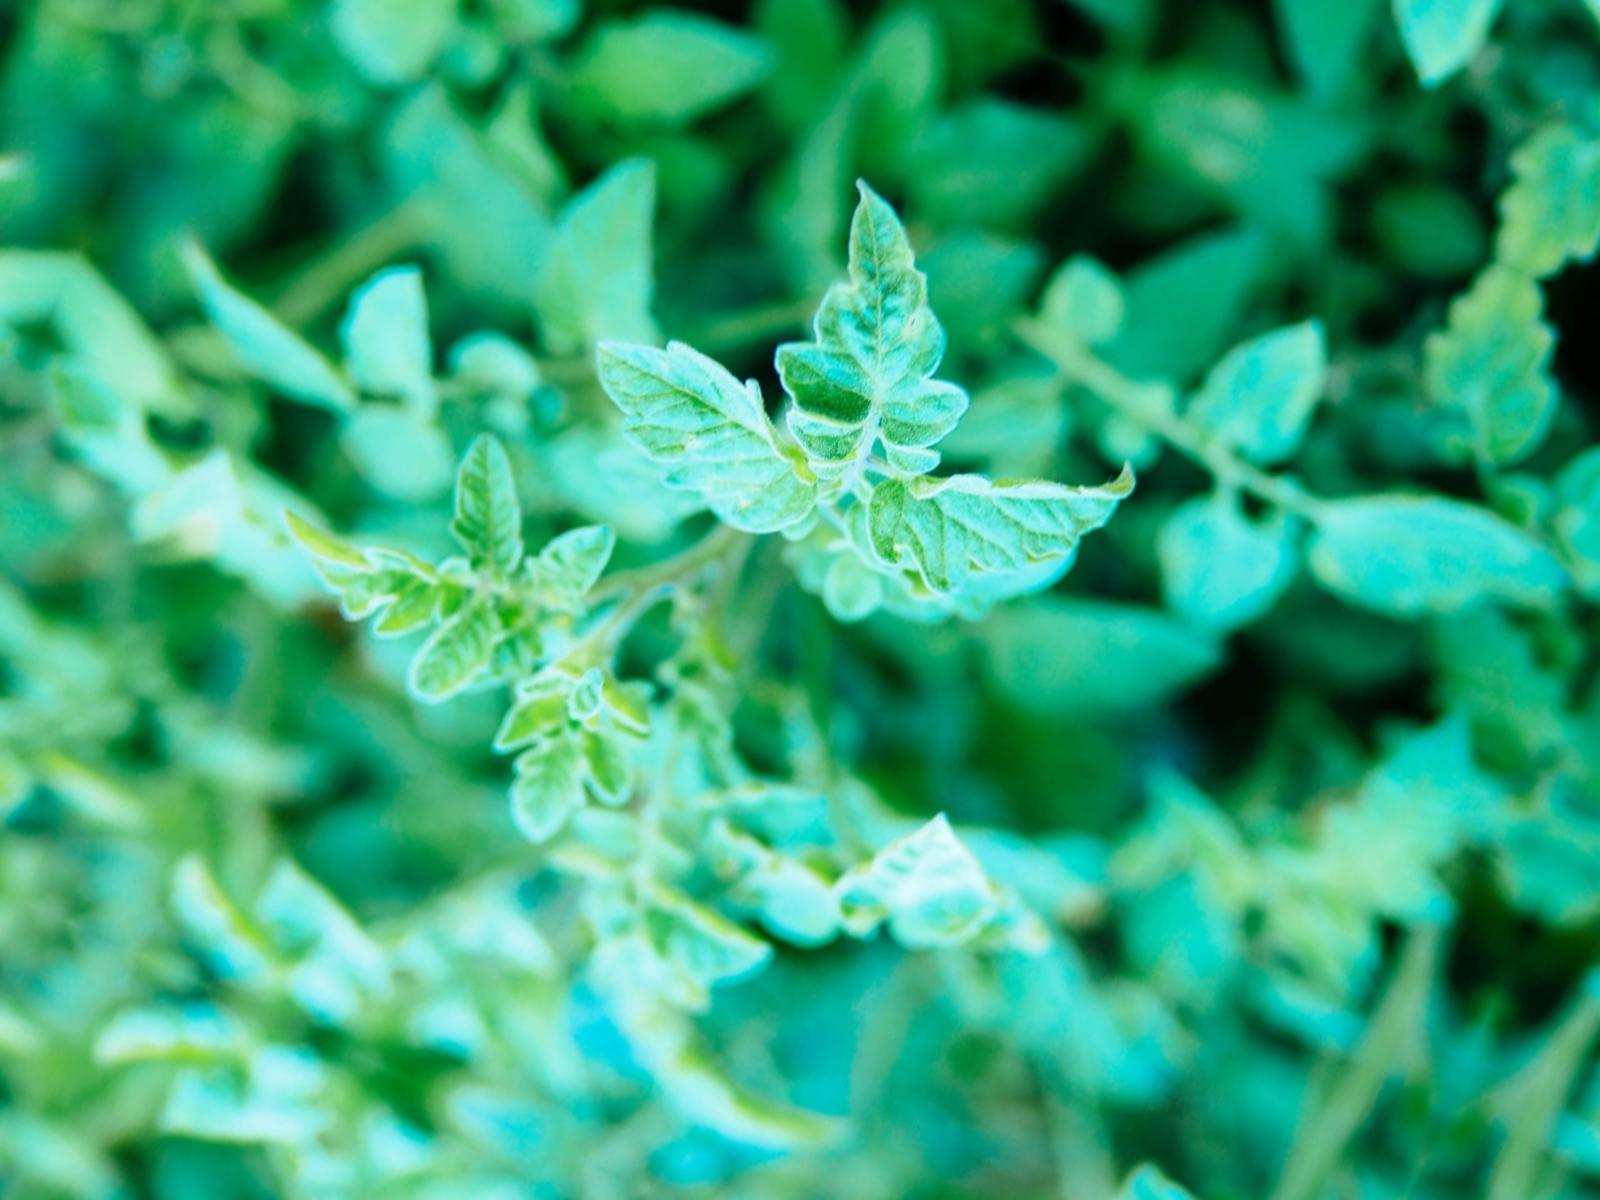Tomato leaf: (799, 359, 1162, 693), (709, 140, 1026, 521), (556, 296, 875, 563)
